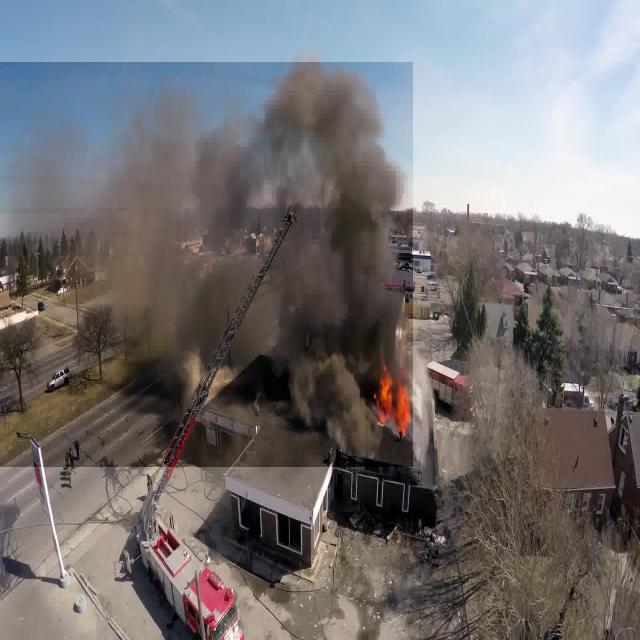Fire: (370, 364, 412, 443)
Smoke: (0, 62, 413, 467)
